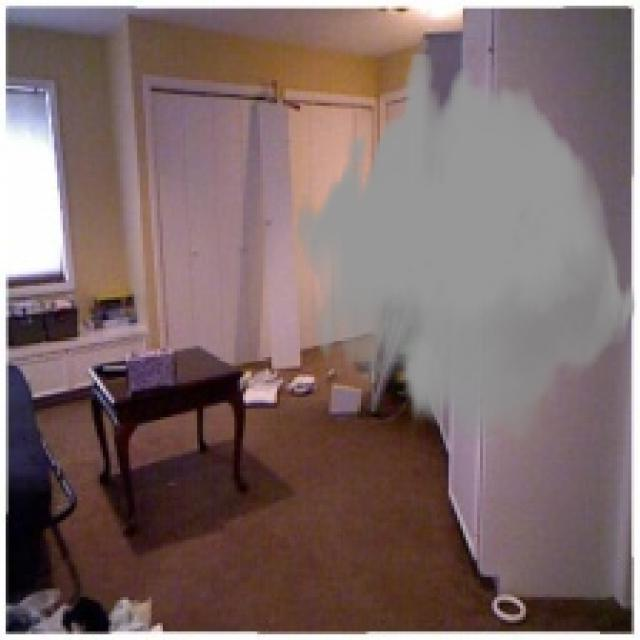Smoke: (294, 54, 637, 446)
